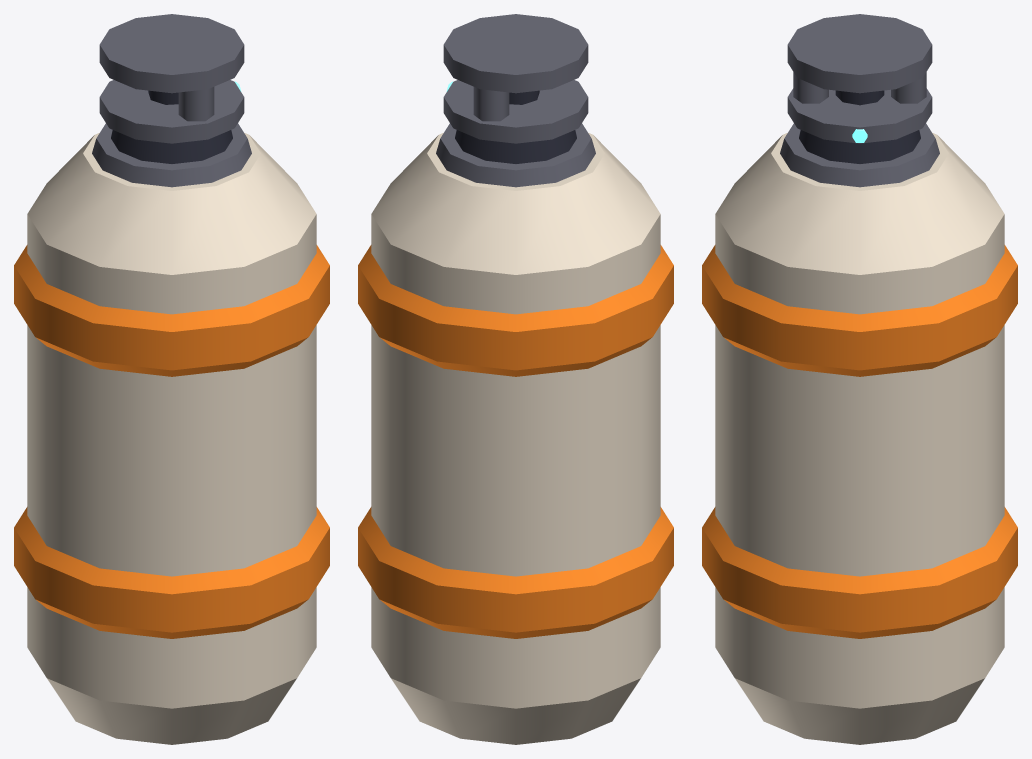
File: asset.glb
3 renders of one model, left to right at view 1: azimuth 30°, elevation 25°; view 2: azimuth 150°, elevation 25°; view 3: azimuth 270°, elevation 25°, orthographic.
Parts seen in each view (by area): view 1: Mesh_TankMidBody, Mesh_TankShoulderChamfer, Mesh_TankLowerBody, Mesh_BandLowerMid, Mesh_BandUpperMid, Mesh_TankUpperBody, Mesh_ShroudTopBridge, Mesh_TankBaseChamfer, Mesh_BandUpperChamferTop, Mesh_BandLowerChamferTop, Mesh_ShroudBase, Mesh_ValveFlange (+4 smaller); view 2: Mesh_TankMidBody, Mesh_TankShoulderChamfer, Mesh_TankLowerBody, Mesh_BandLowerMid, Mesh_BandUpperMid, Mesh_TankUpperBody, Mesh_ShroudTopBridge, Mesh_TankBaseChamfer, Mesh_BandUpperChamferTop, Mesh_BandLowerChamferTop, Mesh_ShroudBase, Mesh_ValveFlange (+4 smaller); view 3: Mesh_TankMidBody, Mesh_TankShoulderChamfer, Mesh_TankLowerBody, Mesh_BandLowerMid, Mesh_BandUpperMid, Mesh_TankUpperBody, Mesh_ShroudTopBridge, Mesh_TankBaseChamfer, Mesh_BandUpperChamferTop, Mesh_BandLowerChamferTop, Mesh_ShroudBase, Mesh_ValveFlange (+6 smaller).
Boxes of the visible parts, x1,y1,x2,y2 form: Mesh_TankMidBody: (27, 325, 316, 576); Mesh_TankShoulderChamfer: (27, 132, 316, 274); Mesh_TankLowerBody: (27, 587, 316, 708); Mesh_BandLowerMid: (14, 528, 329, 632); Mesh_BandUpperMid: (14, 266, 329, 370); Mesh_TankUpperBody: (27, 214, 316, 314); Mesh_ShroudTopBridge: (99, 14, 244, 93); Mesh_TankBaseChamfer: (47, 678, 296, 744); Mesh_BandUpperChamferTop: (14, 245, 329, 331); Mesh_BandLowerChamferTop: (14, 507, 329, 594); Mesh_ShroudBase: (99, 80, 244, 143); Mesh_ValveFlange: (92, 123, 251, 187); Mesh_TankMidBody: (371, 325, 660, 576); Mesh_TankShoulderChamfer: (371, 132, 660, 274); Mesh_TankLowerBody: (371, 587, 660, 708); Mesh_BandLowerMid: (358, 528, 673, 632); Mesh_BandUpperMid: (358, 266, 673, 370); Mesh_TankUpperBody: (371, 214, 660, 314); Mesh_ShroudTopBridge: (443, 14, 588, 93); Mesh_TankBaseChamfer: (391, 678, 640, 744); Mesh_BandUpperChamferTop: (358, 245, 673, 331); Mesh_BandLowerChamferTop: (358, 507, 673, 594); Mesh_ShroudBase: (443, 80, 588, 143); Mesh_ValveFlange: (436, 123, 595, 187); Mesh_TankMidBody: (715, 325, 1004, 576); Mesh_TankShoulderChamfer: (715, 132, 1004, 274); Mesh_TankLowerBody: (715, 587, 1004, 708); Mesh_BandLowerMid: (702, 528, 1017, 632); Mesh_BandUpperMid: (702, 266, 1017, 370); Mesh_TankUpperBody: (715, 214, 1004, 314); Mesh_ShroudTopBridge: (787, 14, 932, 93); Mesh_TankBaseChamfer: (735, 678, 984, 744); Mesh_BandUpperChamferTop: (702, 245, 1017, 331); Mesh_BandLowerChamferTop: (702, 507, 1017, 594); Mesh_ShroudBase: (787, 88, 932, 143); Mesh_ValveFlange: (780, 123, 939, 187).
Size of the model in its own units: 0.284 by 0.648 by 0.284.
